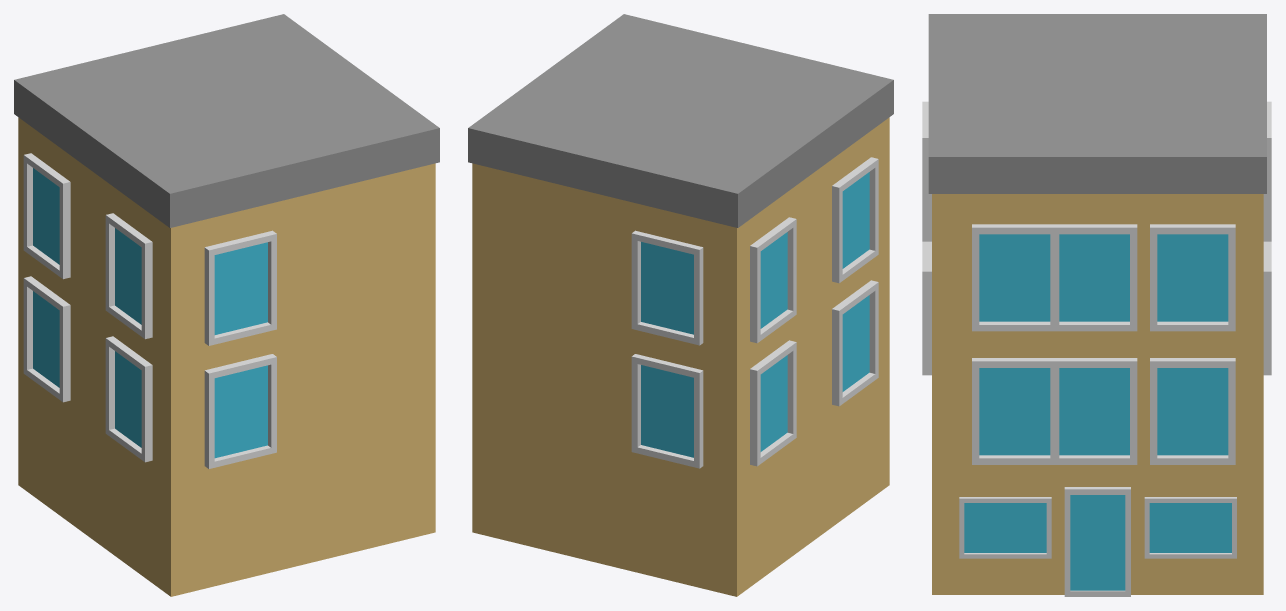
The model's file is building5.fbx.
3 renders of one model, left to right at view 1: azimuth 30°, elevation 25°; view 2: azimuth 150°, elevation 25°; view 3: azimuth 270°, elevation 25°, orthographic. The views are drawn at different scales.
Parts seen in each view (by area): view 1: Plane.002; view 2: Plane.002; view 3: Plane.002.
Part boxes in pixels (x1,y1,x2,y2): Plane.002: [14, 14, 439, 596]; Plane.002: [468, 14, 893, 596]; Plane.002: [922, 14, 1271, 596].
Bounding box in the file's own units: 1053 × 1462 × 1052.
